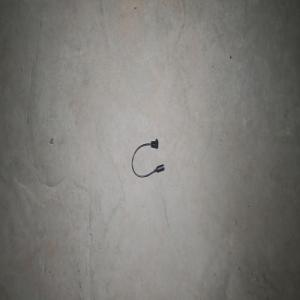Wire: (131, 138, 165, 177)
